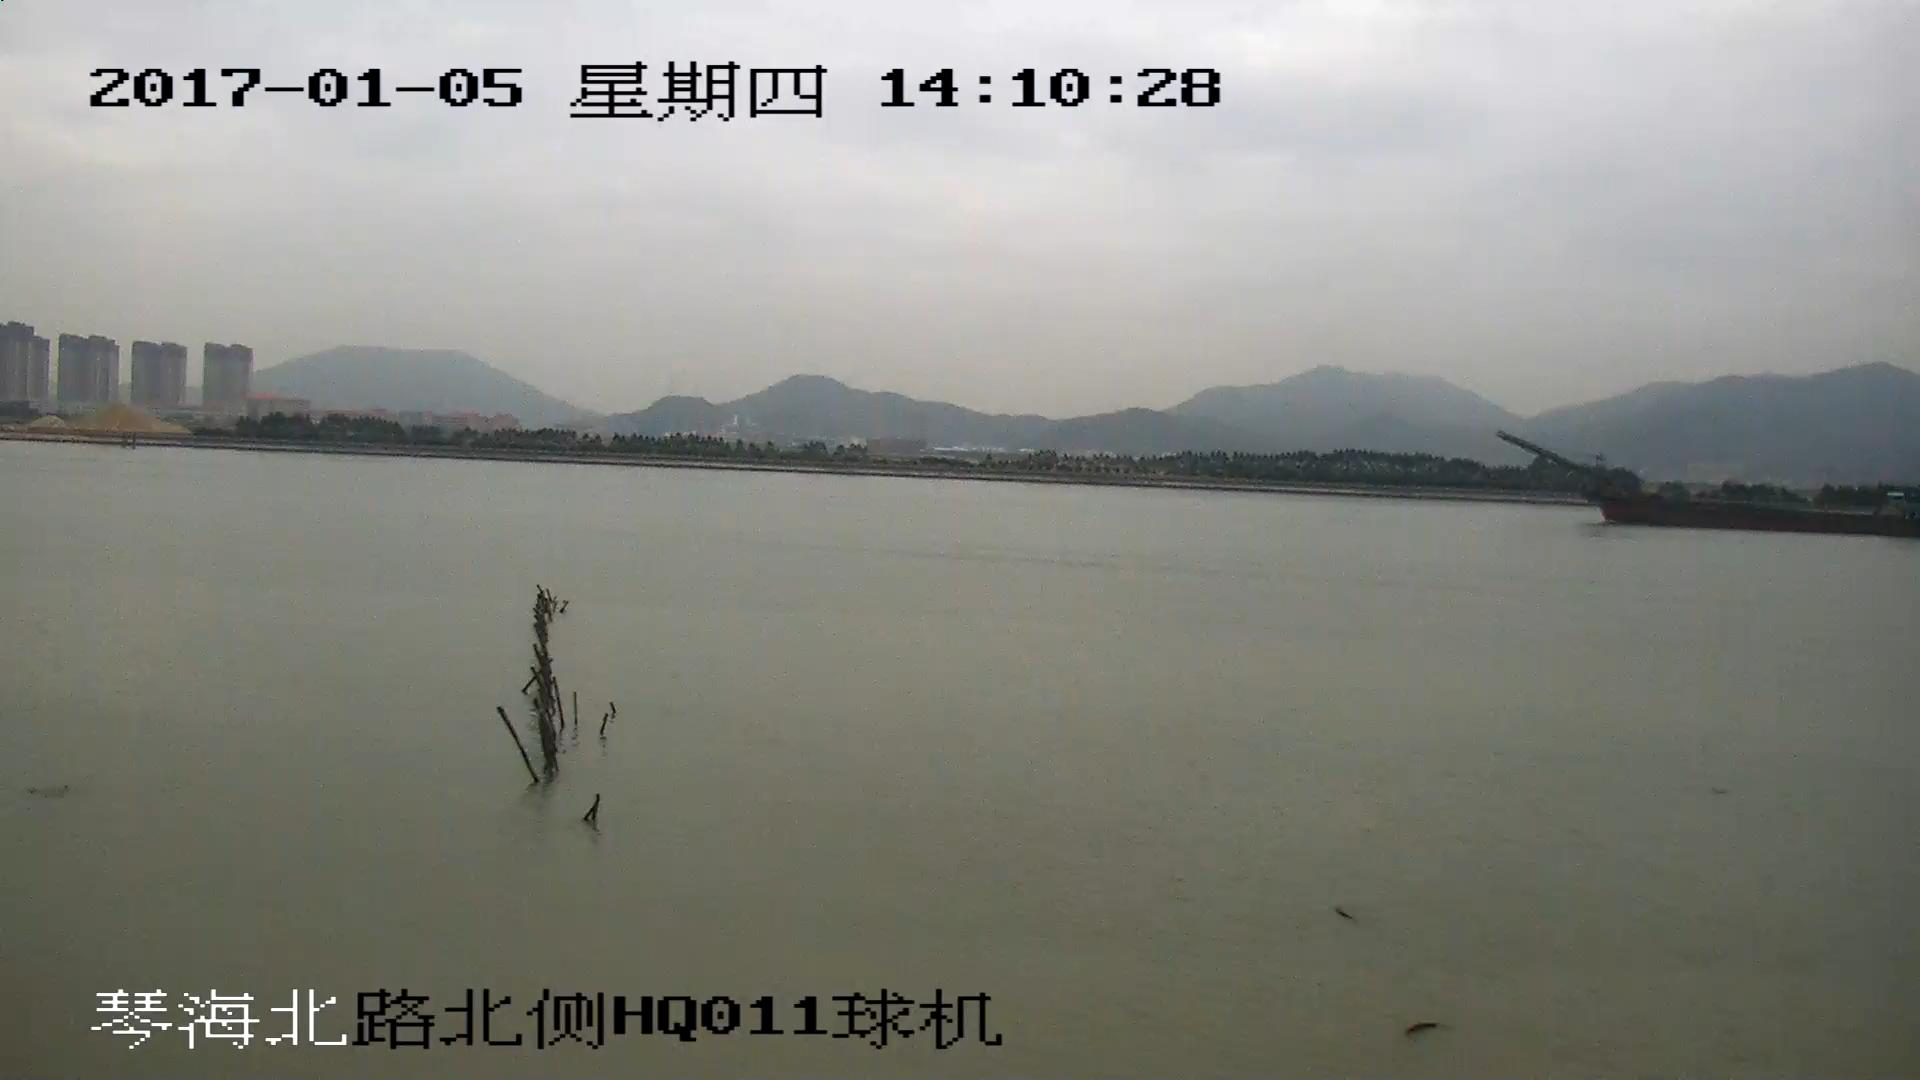bulk cargo carrier: (1500, 432, 1920, 537)
